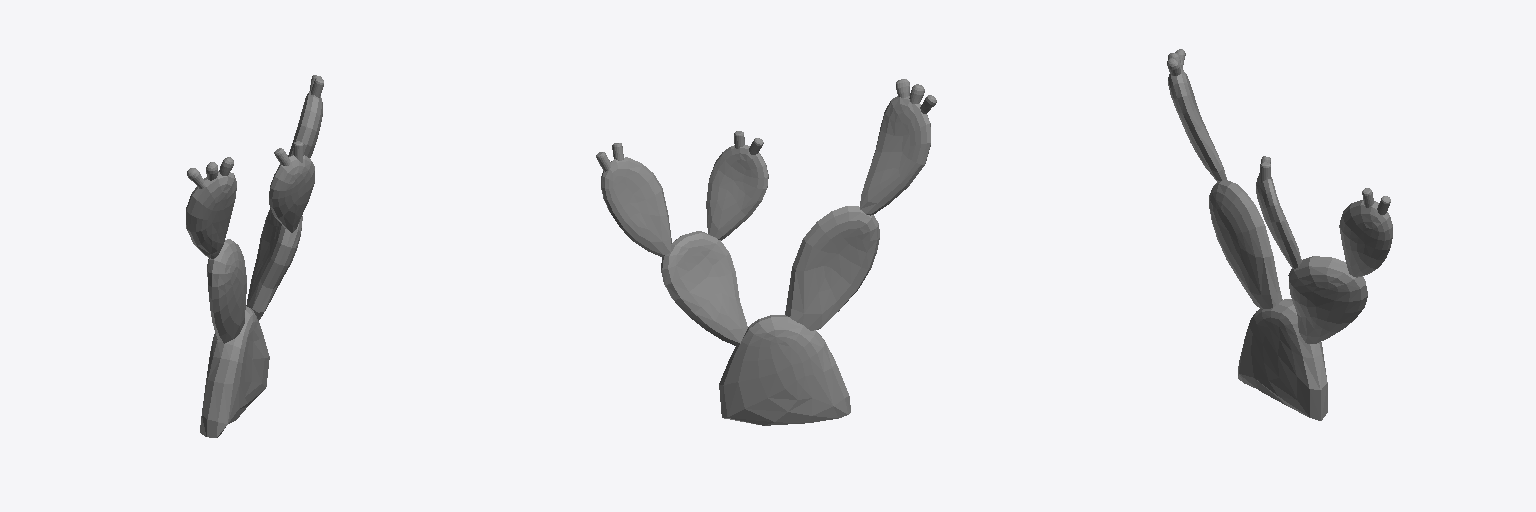
The model's file is cactus.obj.
The picture shows the model from 3 angles: view 1: azimuth 30°, elevation 25°; view 2: azimuth 150°, elevation 25°; view 3: azimuth 270°, elevation 25°; orthographic projection.
Parts seen in each view (by area): view 1: Group32591_meshId0_name; view 2: Group32591_meshId0_name; view 3: Group32591_meshId0_name.
Boxes of the visible parts, box(x1,y1,x2,y2) form: Group32591_meshId0_name: box(186, 75, 323, 437); Group32591_meshId0_name: box(596, 79, 936, 425); Group32591_meshId0_name: box(1167, 49, 1392, 420).
Size of the model in its own units: 0.875 by 1.11 by 0.7244.